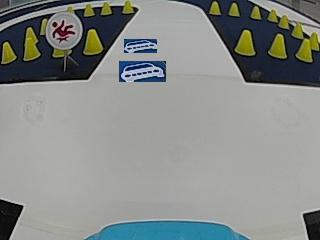cone: (235, 28, 255, 56), (83, 29, 103, 55), (268, 33, 286, 59), (23, 37, 39, 60), (296, 39, 311, 62), (1, 41, 14, 64), (291, 21, 303, 38), (208, 1, 221, 16), (228, 2, 240, 17), (100, 1, 112, 16), (309, 31, 318, 50), (250, 5, 261, 20), (83, 3, 94, 17), (122, 0, 133, 14), (279, 13, 288, 29), (39, 18, 47, 35), (268, 8, 277, 22)
tumble: (49, 13, 80, 46)
